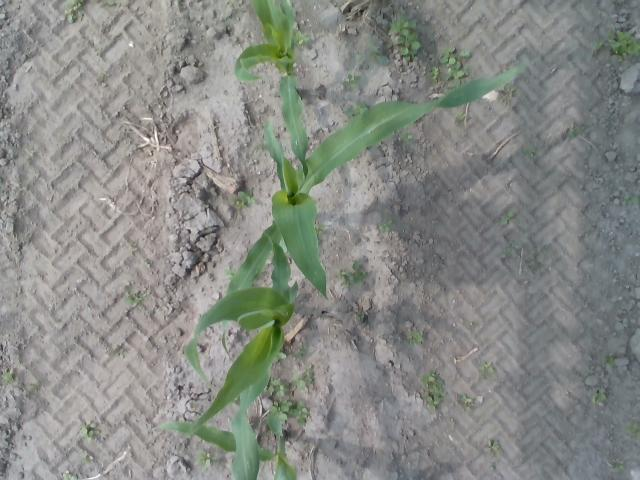Maize: (222, 61, 536, 360), (184, 232, 298, 480), (235, 0, 310, 177), (154, 412, 297, 480)
Weeds: (390, 18, 421, 60), (358, 38, 388, 66), (442, 47, 468, 78), (422, 374, 446, 406), (610, 32, 638, 54), (64, 0, 84, 22), (194, 450, 218, 468), (296, 370, 316, 390), (522, 250, 538, 273), (566, 121, 585, 140), (236, 192, 253, 210), (271, 401, 290, 416), (343, 74, 362, 89), (272, 380, 290, 395), (483, 440, 499, 456), (352, 264, 367, 280), (292, 404, 308, 419), (341, 270, 356, 286), (82, 424, 101, 436), (594, 388, 608, 404), (627, 422, 640, 438), (624, 191, 639, 204), (505, 240, 520, 253), (379, 220, 394, 232), (408, 331, 424, 342), (481, 361, 496, 372), (501, 214, 514, 226), (128, 296, 142, 306), (344, 107, 355, 119), (593, 40, 604, 52), (357, 103, 370, 113), (62, 471, 76, 480), (612, 460, 624, 470), (506, 86, 516, 98), (95, 0, 114, 6), (460, 394, 471, 404), (431, 67, 440, 79), (5, 372, 14, 384), (456, 114, 466, 124), (82, 451, 93, 460), (298, 32, 306, 44), (606, 356, 615, 366), (402, 133, 412, 142), (460, 48, 470, 57), (527, 149, 536, 158), (117, 350, 125, 359), (226, 268, 233, 278), (28, 384, 38, 391), (358, 312, 364, 322), (538, 249, 546, 255)
